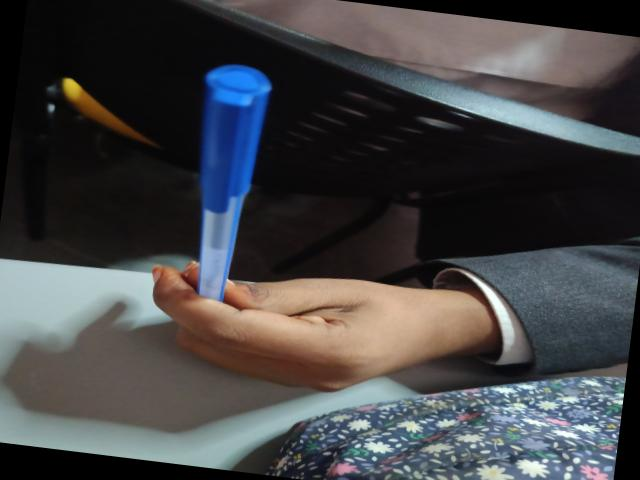PEN: (149, 54, 300, 323)
